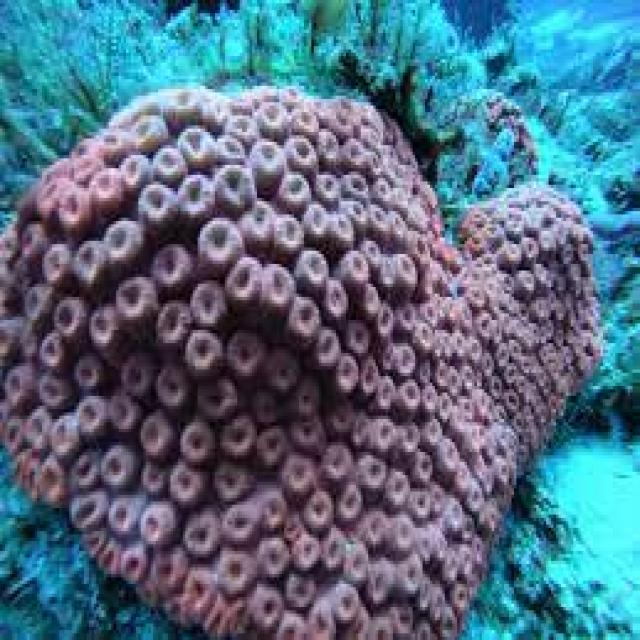Coral: (0, 83, 603, 636)
